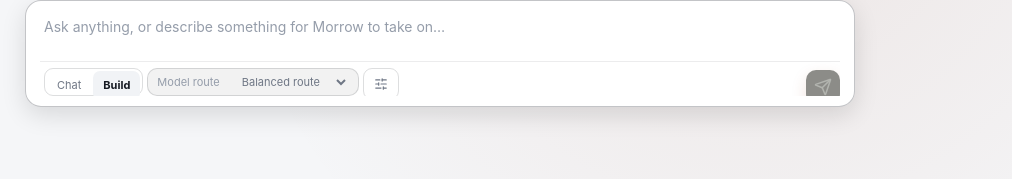
Scenario: ChatComposer › retains exact draft and selection on rejection or error with an actionable status
This screenshot has width=1012, height=179.
Type "Preserve   this exactly" into the text box named "Message Morrow". click: point(440, 37)
box: [40,13,840,61]
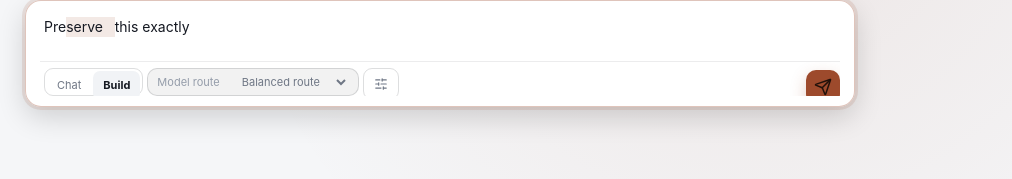
Click the button named "Send message". click: point(823, 87)
box: [806,70,840,104]
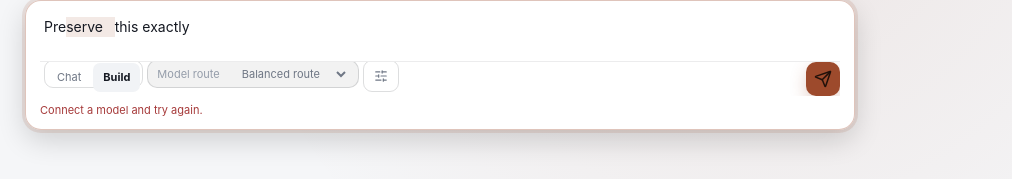
Expected: the message reads "Connect a model and try again.", [40,103,203,117]
Click the button named "Send message". click: point(823, 79)
box: [806,62,840,96]
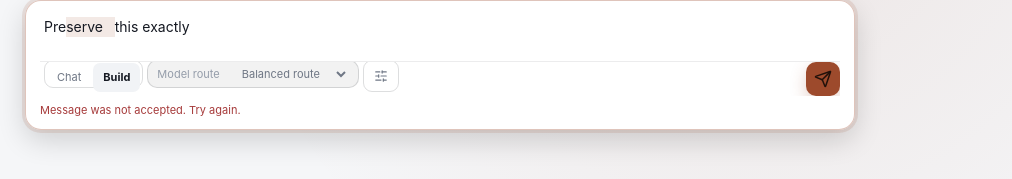
Expected: the message reads "Message was not accepted. Try again.", [40,103,241,117]
